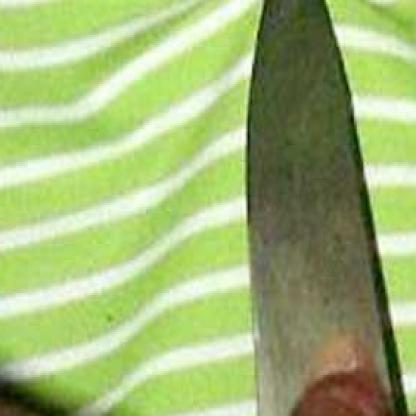knife: (224, 0, 415, 414)
